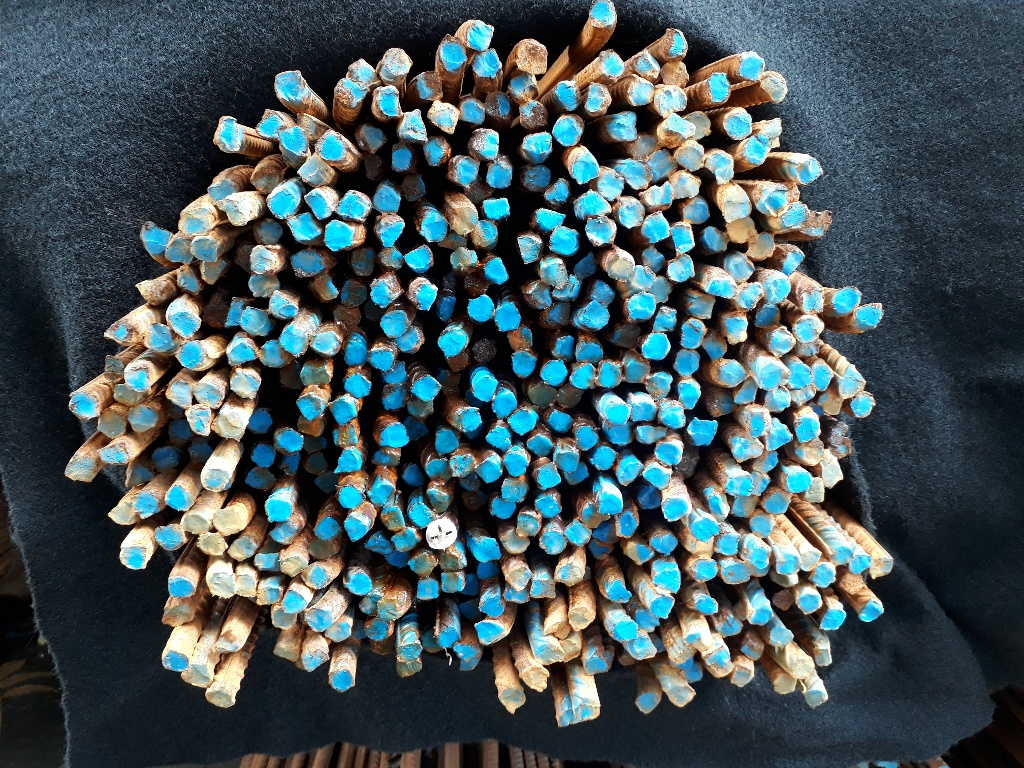dipstick: (215, 194, 257, 226), (296, 153, 335, 186), (209, 116, 243, 153), (335, 188, 372, 222), (657, 116, 697, 146), (427, 101, 460, 134), (605, 248, 635, 284), (175, 341, 212, 370), (140, 222, 170, 257), (286, 213, 322, 242), (574, 192, 612, 219), (568, 151, 600, 183), (705, 270, 738, 301), (397, 109, 428, 142), (266, 185, 297, 218), (763, 417, 793, 451), (517, 41, 547, 75), (381, 48, 416, 77), (757, 183, 788, 215), (470, 49, 502, 80), (428, 102, 459, 134), (274, 71, 305, 103), (549, 225, 579, 258), (317, 132, 347, 165), (138, 280, 175, 306), (674, 141, 705, 172), (522, 131, 553, 162), (184, 405, 215, 436), (654, 87, 686, 117), (705, 152, 735, 184), (607, 112, 639, 142), (578, 300, 610, 330), (291, 249, 324, 278), (617, 160, 651, 188), (538, 258, 568, 289), (373, 86, 403, 117), (170, 309, 201, 339), (639, 183, 671, 212), (552, 117, 584, 146), (418, 210, 447, 242), (618, 196, 645, 230), (596, 170, 626, 200), (438, 327, 468, 357), (146, 323, 177, 352), (124, 361, 153, 392), (669, 223, 697, 255), (304, 188, 332, 220), (584, 217, 617, 244), (293, 113, 326, 140), (277, 128, 310, 155), (800, 285, 829, 315), (626, 631, 655, 661), (509, 74, 539, 103), (519, 662, 549, 691), (427, 521, 457, 550), (689, 417, 717, 448), (614, 455, 642, 486), (584, 84, 612, 115), (473, 129, 501, 160), (178, 209, 209, 237), (259, 340, 290, 368), (706, 74, 733, 106), (732, 283, 764, 310), (274, 426, 306, 453), (577, 502, 610, 528), (534, 206, 568, 231), (641, 213, 670, 242), (465, 19, 494, 48), (256, 110, 285, 139), (279, 327, 308, 356), (740, 137, 770, 165), (831, 285, 861, 313), (702, 225, 730, 255), (555, 82, 583, 112), (532, 464, 562, 492), (508, 408, 538, 436), (336, 78, 364, 108), (231, 369, 259, 399), (760, 274, 791, 301), (745, 233, 776, 260), (193, 381, 224, 408), (296, 394, 327, 421), (228, 339, 260, 365), (406, 552, 439, 577), (730, 436, 764, 460), (625, 78, 654, 106), (628, 291, 656, 320), (644, 373, 673, 401), (520, 100, 548, 129), (523, 280, 552, 308), (528, 380, 557, 408), (440, 39, 468, 68), (330, 397, 358, 426), (725, 109, 752, 139), (803, 212, 833, 239), (517, 234, 544, 264), (325, 221, 352, 251), (242, 309, 272, 336), (380, 312, 410, 339), (127, 405, 157, 432), (723, 255, 754, 281), (669, 173, 700, 199), (154, 525, 185, 551), (771, 247, 806, 270), (251, 245, 276, 277), (686, 111, 714, 139), (853, 301, 881, 329), (458, 98, 486, 126), (166, 238, 194, 266), (367, 477, 395, 505), (661, 33, 690, 60), (781, 202, 808, 231), (722, 194, 751, 221), (451, 206, 478, 235), (484, 92, 511, 121), (254, 218, 283, 245), (334, 447, 363, 474), (727, 217, 757, 243), (471, 536, 501, 562), (495, 300, 521, 330), (755, 121, 786, 146), (681, 319, 706, 350), (161, 604, 196, 626), (107, 321, 139, 345), (643, 334, 671, 361), (623, 357, 651, 384), (628, 394, 656, 421), (455, 407, 483, 434), (470, 219, 497, 247), (423, 139, 451, 166), (357, 126, 384, 154), (191, 236, 219, 263), (167, 380, 194, 408), (252, 442, 279, 470), (270, 517, 298, 544), (794, 317, 823, 343), (648, 151, 674, 180), (483, 257, 509, 286), (347, 61, 376, 87), (374, 185, 400, 214), (525, 432, 555, 457), (350, 248, 375, 278), (380, 423, 410, 448), (722, 472, 753, 496), (164, 486, 195, 510), (594, 361, 621, 388), (554, 274, 581, 301), (99, 411, 126, 438), (662, 63, 690, 89), (794, 439, 822, 465), (565, 518, 591, 546), (522, 165, 550, 191), (403, 246, 431, 272), (417, 71, 443, 99), (377, 220, 405, 246), (723, 315, 748, 344), (447, 454, 476, 479), (310, 276, 339, 301), (365, 532, 394, 557), (597, 50, 627, 74), (449, 247, 479, 271), (201, 468, 231, 492), (678, 381, 701, 412), (624, 541, 655, 564), (767, 330, 794, 356), (838, 371, 865, 397), (689, 295, 716, 321), (732, 492, 758, 519), (649, 594, 676, 620), (628, 265, 655, 291), (589, 281, 615, 308), (547, 299, 574, 325), (491, 391, 517, 418), (435, 429, 461, 456), (468, 295, 494, 322), (133, 491, 160, 517), (208, 571, 235, 597), (282, 588, 309, 614), (682, 198, 710, 223), (200, 259, 228, 284), (269, 293, 297, 318), (278, 450, 303, 478), (591, 447, 620, 471), (605, 421, 634, 445), (251, 168, 280, 192), (372, 280, 396, 309), (214, 510, 243, 534), (629, 137, 659, 160), (858, 596, 884, 622), (662, 496, 688, 522), (540, 360, 566, 386), (502, 449, 528, 475), (487, 162, 513, 188), (470, 339, 496, 365), (849, 391, 874, 418), (668, 257, 695, 282), (674, 352, 699, 379), (573, 698, 600, 723), (500, 688, 527, 713), (797, 158, 825, 182), (745, 409, 769, 437), (643, 465, 671, 489), (500, 478, 528, 502), (177, 266, 201, 294), (300, 364, 332, 385), (501, 529, 530, 552), (412, 377, 441, 400), (820, 458, 842, 488), (709, 393, 739, 415), (612, 325, 642, 347), (249, 275, 279, 297), (98, 444, 128, 466), (305, 609, 335, 631), (740, 56, 766, 81), (762, 74, 787, 100), (786, 364, 812, 389), (760, 366, 786, 391), (701, 334, 727, 359), (721, 560, 747, 585), (670, 683, 696, 708), (400, 177, 426, 202), (341, 281, 366, 307), (153, 445, 178, 471), (169, 421, 195, 446), (343, 514, 368, 540), (588, 3, 615, 27), (795, 414, 819, 441), (809, 563, 836, 587), (765, 388, 792, 412), (755, 305, 782, 329), (707, 495, 731, 522), (655, 442, 682, 466), (655, 305, 679, 332), (616, 512, 640, 539), (605, 579, 632, 603), (572, 255, 599, 279), (575, 424, 599, 451), (535, 494, 562, 518), (539, 531, 566, 555), (425, 455, 449, 482), (513, 351, 537, 378), (377, 247, 404, 271), (341, 343, 365, 370), (344, 374, 371, 398), (219, 412, 246, 436), (120, 547, 147, 571), (163, 649, 190, 673), (825, 417, 848, 445), (596, 492, 624, 515), (416, 283, 439, 311), (228, 537, 256, 560), (818, 608, 847, 630), (474, 621, 503, 643), (489, 497, 518, 519), (391, 528, 420, 550), (694, 592, 719, 617), (504, 566, 529, 591), (472, 376, 497, 401), (455, 159, 480, 184), (802, 476, 826, 502), (786, 469, 812, 493), (669, 645, 693, 671), (654, 568, 680, 592), (658, 405, 684, 429), (636, 423, 662, 447), (570, 364, 596, 388), (312, 331, 338, 355), (408, 503, 434, 527), (377, 597, 404, 620), (749, 469, 771, 497), (649, 275, 671, 303), (208, 180, 236, 202), (200, 534, 228, 556), (280, 553, 308, 575), (235, 569, 257, 597), (454, 641, 483, 662), (302, 651, 331, 672), (204, 689, 236, 708), (691, 516, 716, 540), (508, 326, 533, 350), (395, 327, 419, 352), (383, 384, 407, 409), (826, 436, 852, 459), (604, 400, 630, 423), (346, 571, 372, 594), (169, 575, 195, 598), (751, 449, 778, 471), (634, 609, 661, 631), (577, 342, 604, 364), (335, 305, 362, 327), (303, 566, 330, 588), (437, 293, 458, 321), (365, 619, 394, 639), (245, 469, 274, 489), (776, 549, 800, 573), (750, 514, 774, 538), (552, 337, 576, 361), (486, 427, 510, 451), (248, 409, 272, 433), (382, 506, 406, 530), (871, 556, 894, 581), (692, 561, 717, 584), (583, 652, 608, 675), (516, 513, 539, 538), (187, 440, 212, 463), (314, 516, 339, 539), (416, 575, 439, 600), (184, 663, 209, 686), (811, 365, 833, 391), (763, 492, 789, 514), (719, 361, 745, 383), (736, 377, 758, 403), (651, 534, 677, 556), (638, 487, 664, 509), (547, 410, 573, 432), (333, 424, 359, 446), (77, 391, 98, 418), (255, 585, 282, 606), (816, 393, 844, 413), (536, 644, 564, 664), (296, 416, 324, 436), (848, 554, 872, 577), (643, 247, 666, 271), (570, 608, 594, 631), (545, 179, 568, 203), (436, 626, 460, 649), (399, 638, 423, 661), (730, 664, 752, 689), (439, 549, 464, 571), (429, 487, 451, 512), (266, 499, 291, 521), (361, 594, 386, 616), (330, 670, 355, 692), (748, 605, 774, 626), (714, 534, 740, 555), (704, 645, 730, 666), (612, 620, 638, 641), (557, 565, 583, 586), (483, 198, 509, 219), (392, 148, 413, 174), (371, 349, 397, 370), (113, 383, 139, 404), (110, 503, 136, 524), (685, 534, 713, 553), (747, 546, 770, 569), (306, 453, 329, 476), (679, 661, 703, 683), (560, 385, 581, 410), (530, 578, 555, 599), (383, 362, 408, 383), (310, 539, 335, 560), (797, 593, 823, 613), (545, 620, 571, 640), (403, 418, 429, 438), (325, 621, 351, 641), (683, 632, 710, 651), (444, 352, 471, 371), (104, 355, 123, 382), (205, 337, 228, 359), (716, 618, 744, 636), (742, 639, 766, 660), (564, 463, 588, 484), (441, 573, 465, 594), (477, 461, 501, 482), (225, 299, 243, 327), (338, 486, 362, 507), (217, 631, 241, 652), (374, 448, 399, 468), (256, 552, 281, 572), (479, 598, 505, 617), (407, 399, 436, 416), (788, 387, 815, 405), (590, 541, 617, 559), (791, 657, 813, 679), (800, 549, 821, 572), (773, 673, 796, 694), (315, 472, 338, 493), (635, 693, 659, 713), (182, 514, 206, 534), (397, 658, 421, 678), (475, 561, 500, 580), (76, 459, 95, 484), (403, 464, 424, 486), (387, 546, 410, 566), (304, 434, 331, 451), (829, 547, 853, 566), (771, 572, 801, 587), (273, 645, 298, 663), (773, 590, 794, 611), (459, 598, 480, 619), (769, 627, 792, 646), (559, 639, 578, 662), (504, 586, 531, 602), (813, 646, 833, 667), (371, 638, 395, 655), (424, 630, 440, 655), (594, 523, 615, 542), (782, 182, 800, 204), (805, 690, 828, 707), (458, 575, 478, 594), (795, 342, 820, 357), (556, 706, 575, 725), (708, 663, 732, 678), (460, 473, 481, 490), (749, 563, 770, 578)
